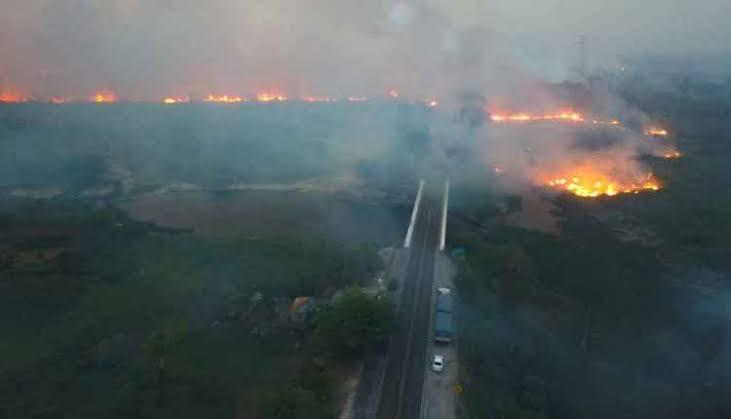fire: (556, 162, 611, 196), (206, 90, 282, 107), (494, 110, 584, 120), (91, 92, 118, 104)
